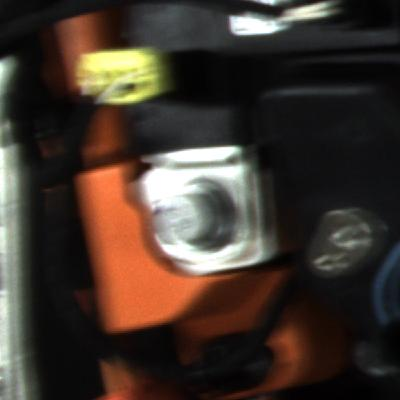nut_b: (148, 187, 236, 266)
